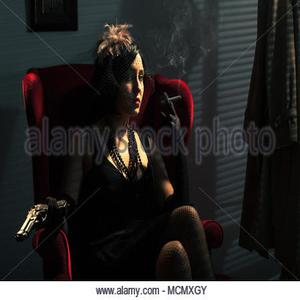cigarette: (156, 93, 182, 105)
